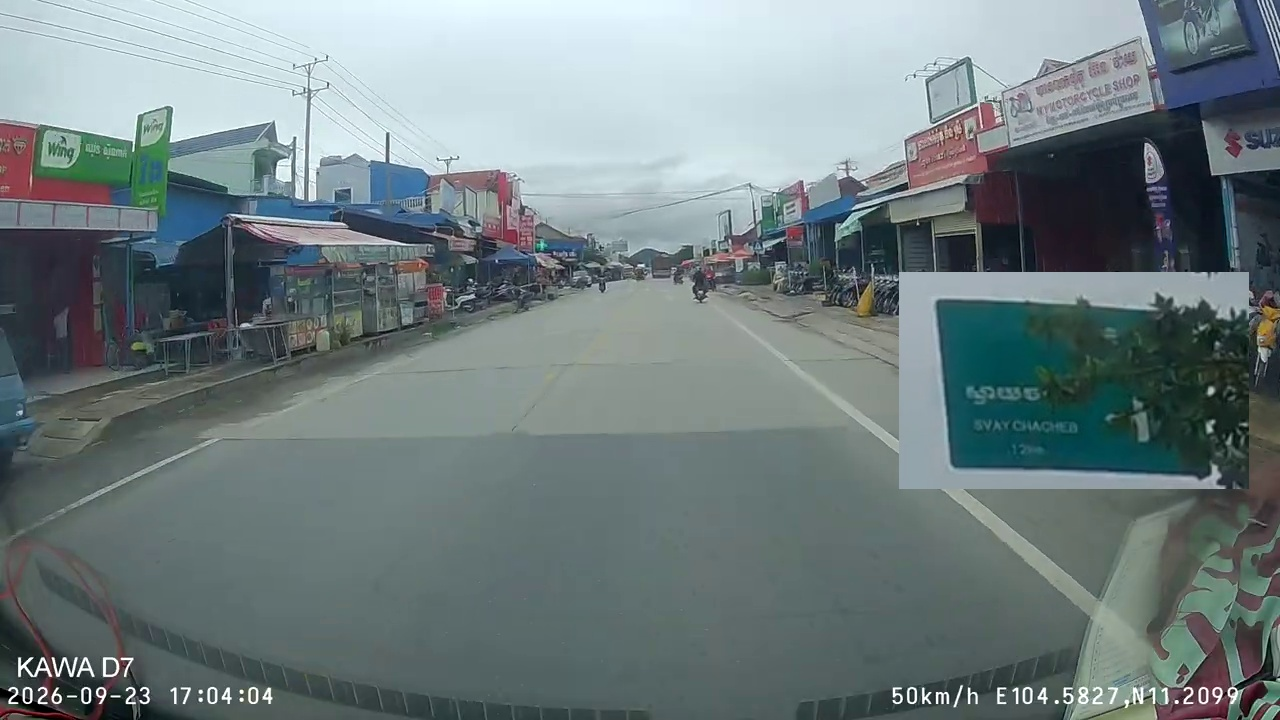direction_sign: (899, 272, 1249, 489)
